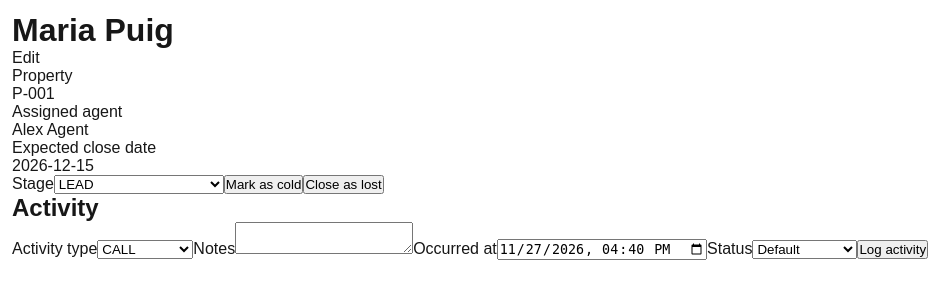
Deal detail view › shows an error message when Close as lost fails
Expected: the link "Maria Puig" is shown, left=12, top=12, right=174, bottom=48
Step 1. Click the button "Close as lost" → (344,184), box left=303, top=175, right=384, bottom=194
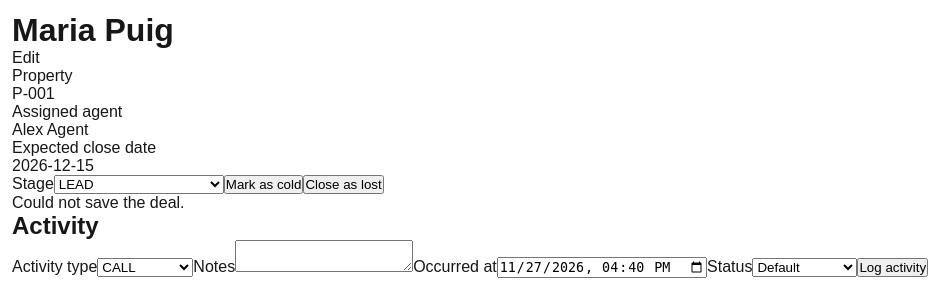
Expected: the text "Could not save the deal." is shown, left=12, top=194, right=185, bottom=211
